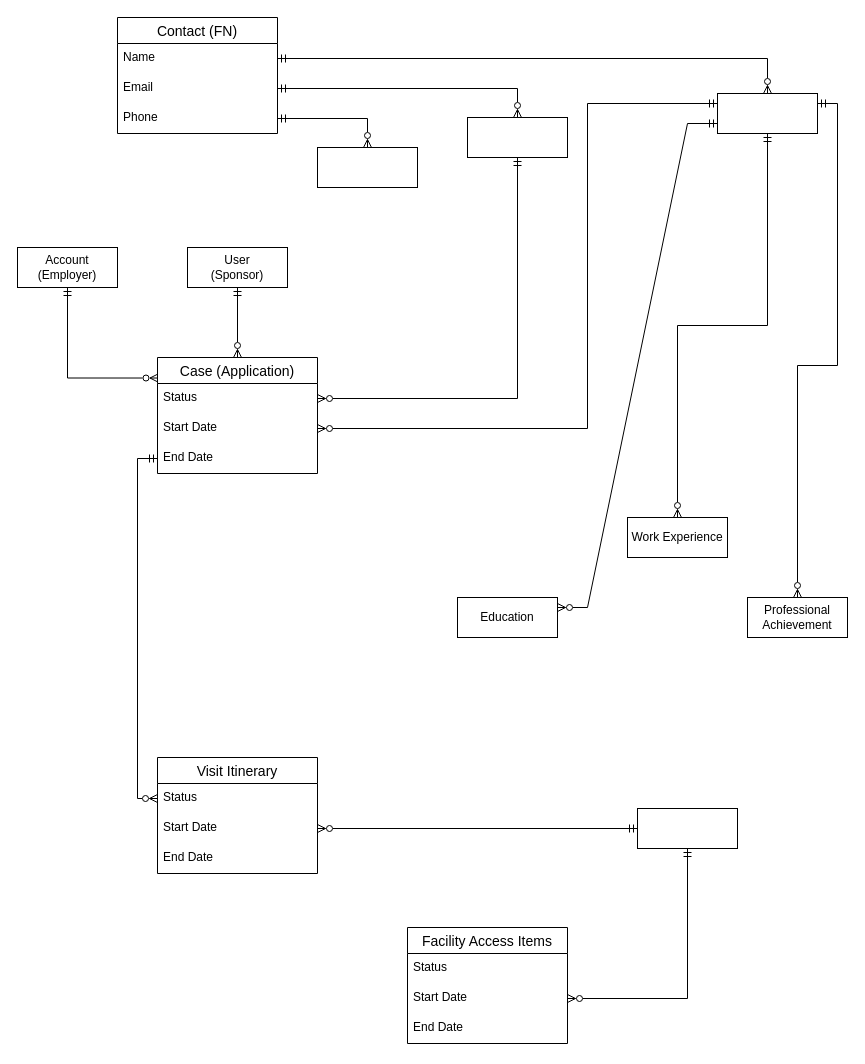
The diagram is 865 pixels wide and 1064 high, and some of its shapes have lost their labels. The shapes that lost their labels are listed below. From the top down, each one's centre as x and y in pixels, then its label:
At (x=767, y=113): "Resume Profile".
At (x=517, y=137): "Identity Documents".
At (x=367, y=167): "Address History".
At (x=687, y=828): "Location".
